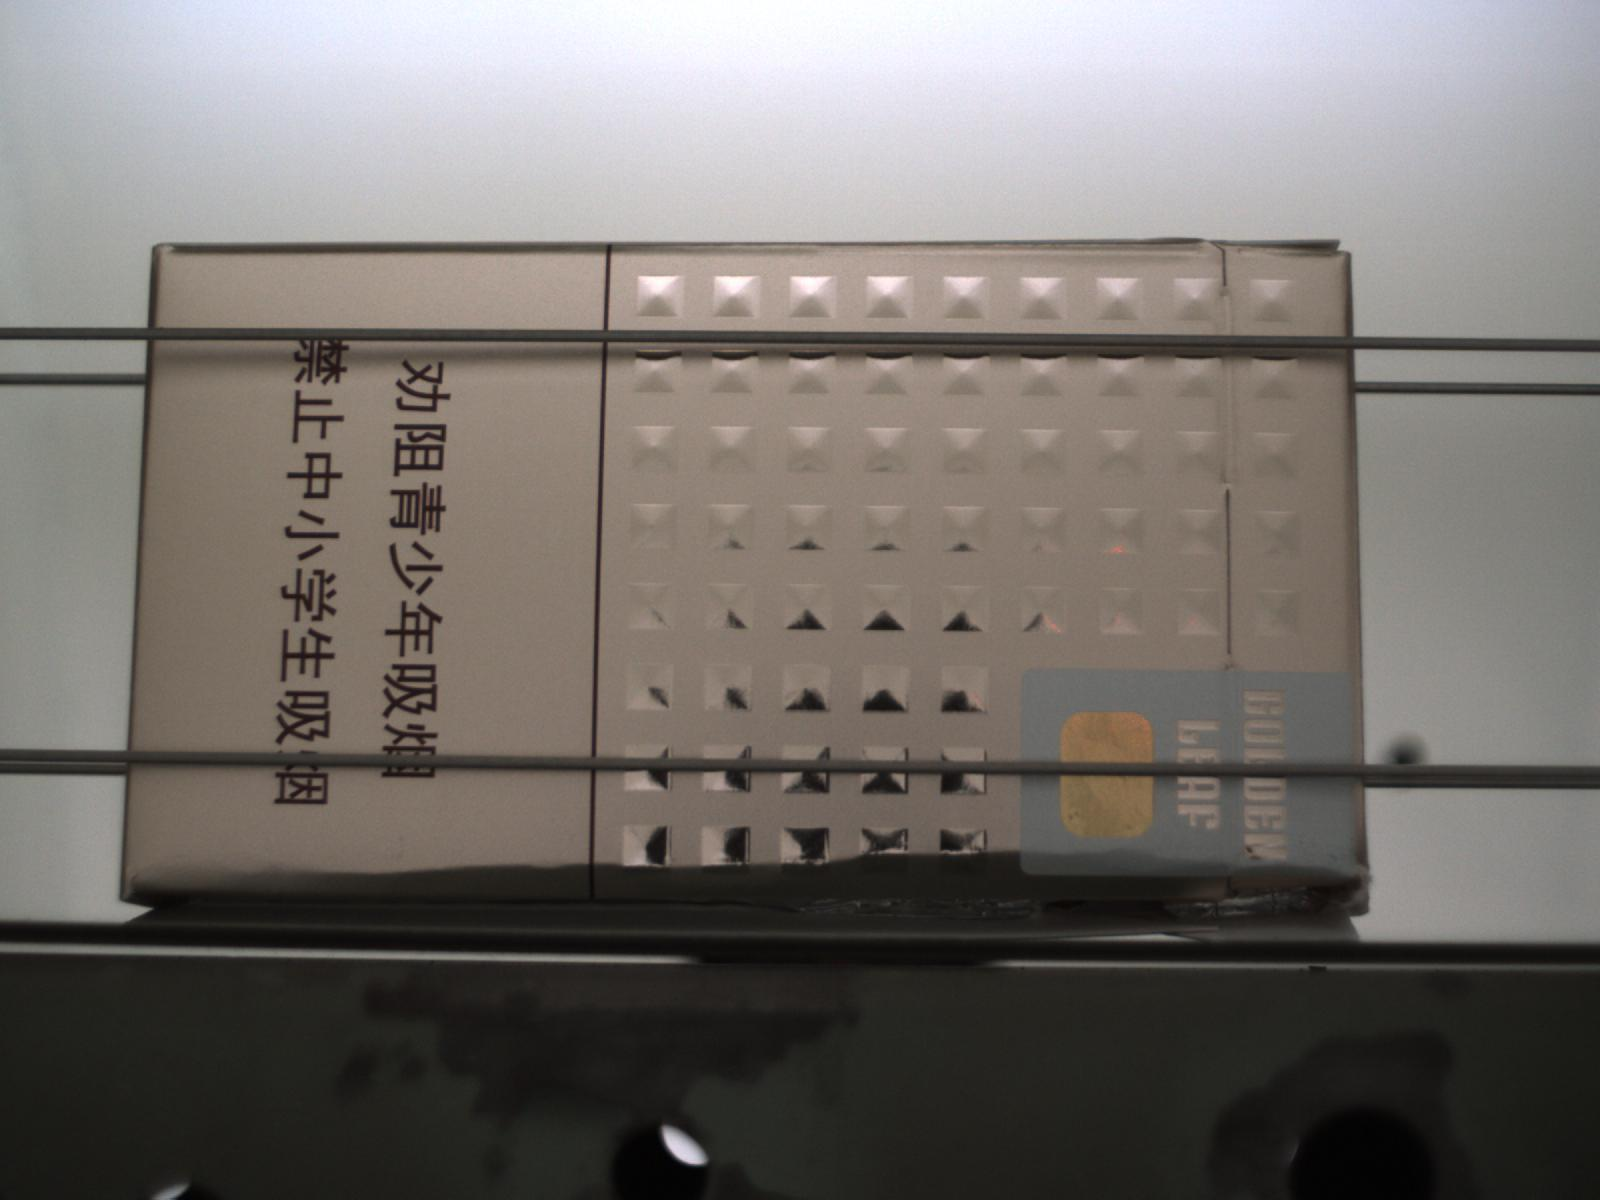dirtyScratch: (127, 832, 1380, 944)
